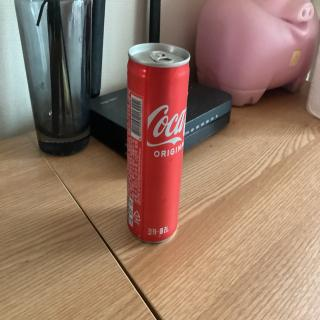cocacola: (123, 40, 190, 247)
